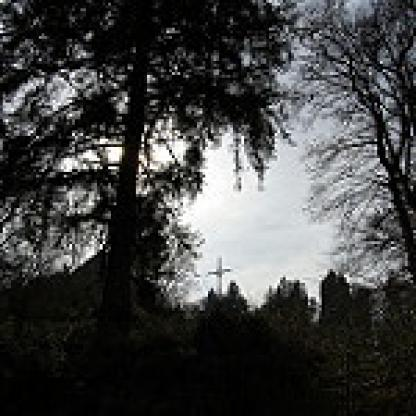tree: (0, 0, 278, 342), (288, 0, 414, 283)
trunk: (92, 52, 152, 333)
